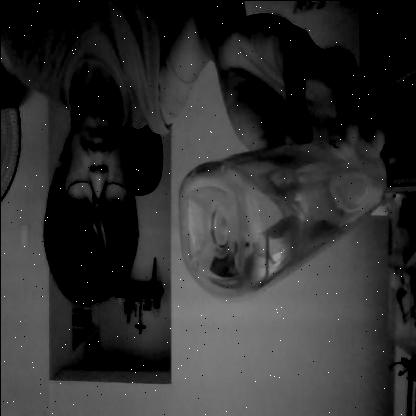Plastic Bottle: (169, 119, 397, 309)
